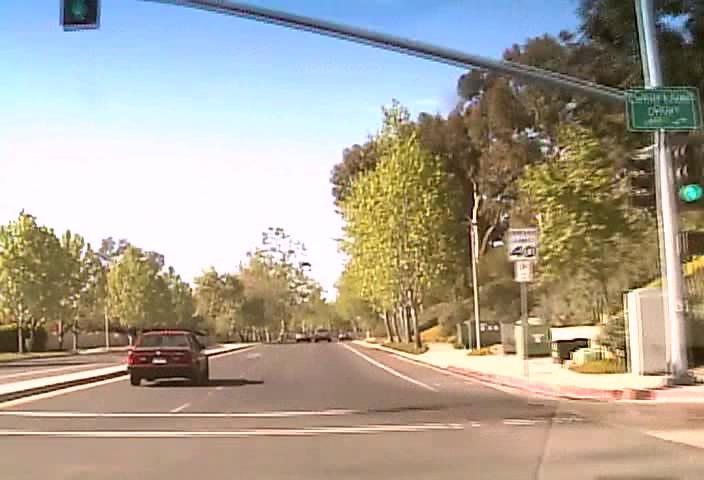speedLimit40: (507, 226, 537, 261)
